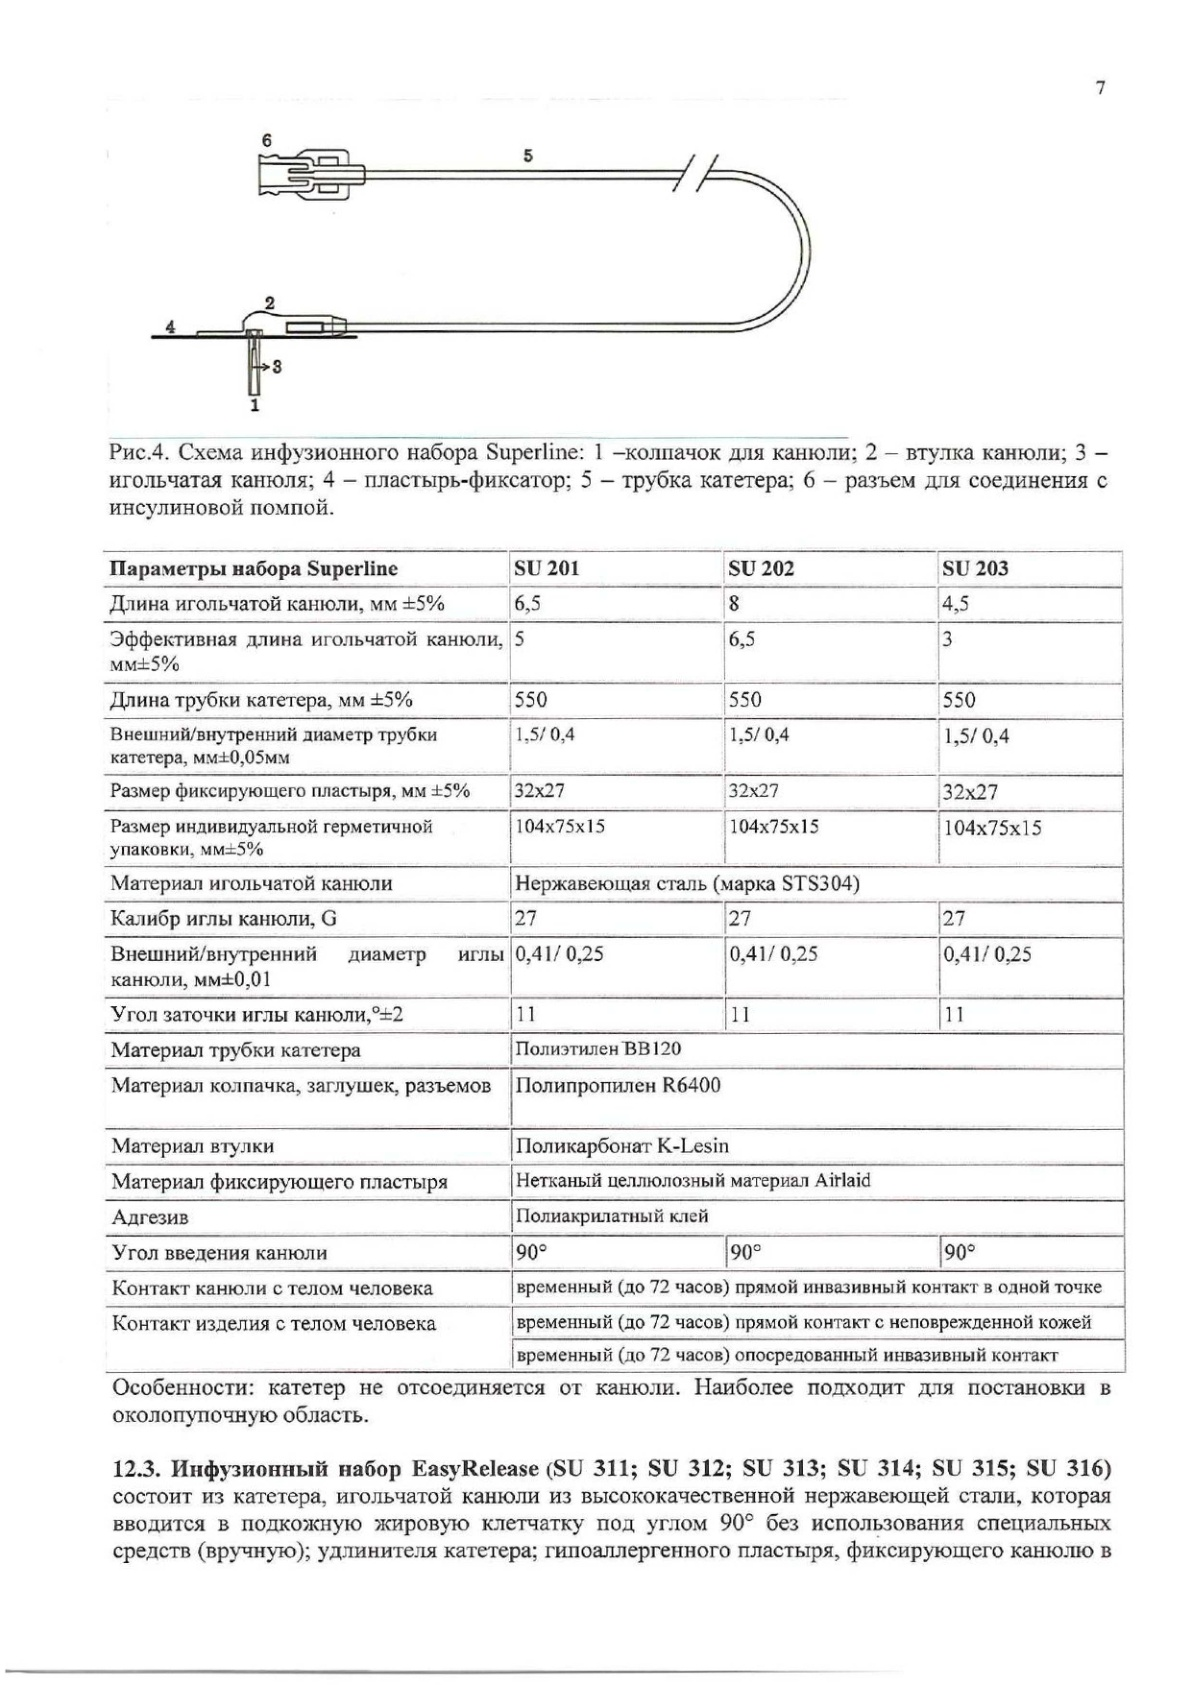partial_lined_merged_cells: (104, 548, 1126, 1374)
